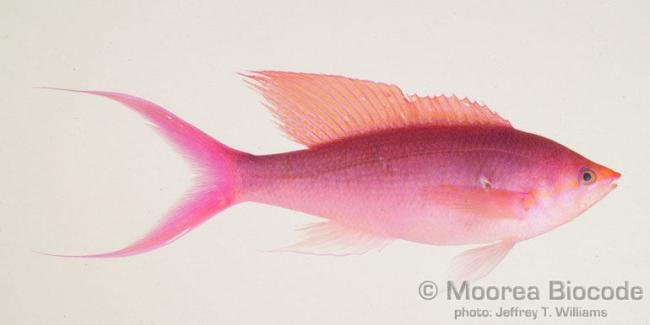fish: (31, 70, 623, 282)
